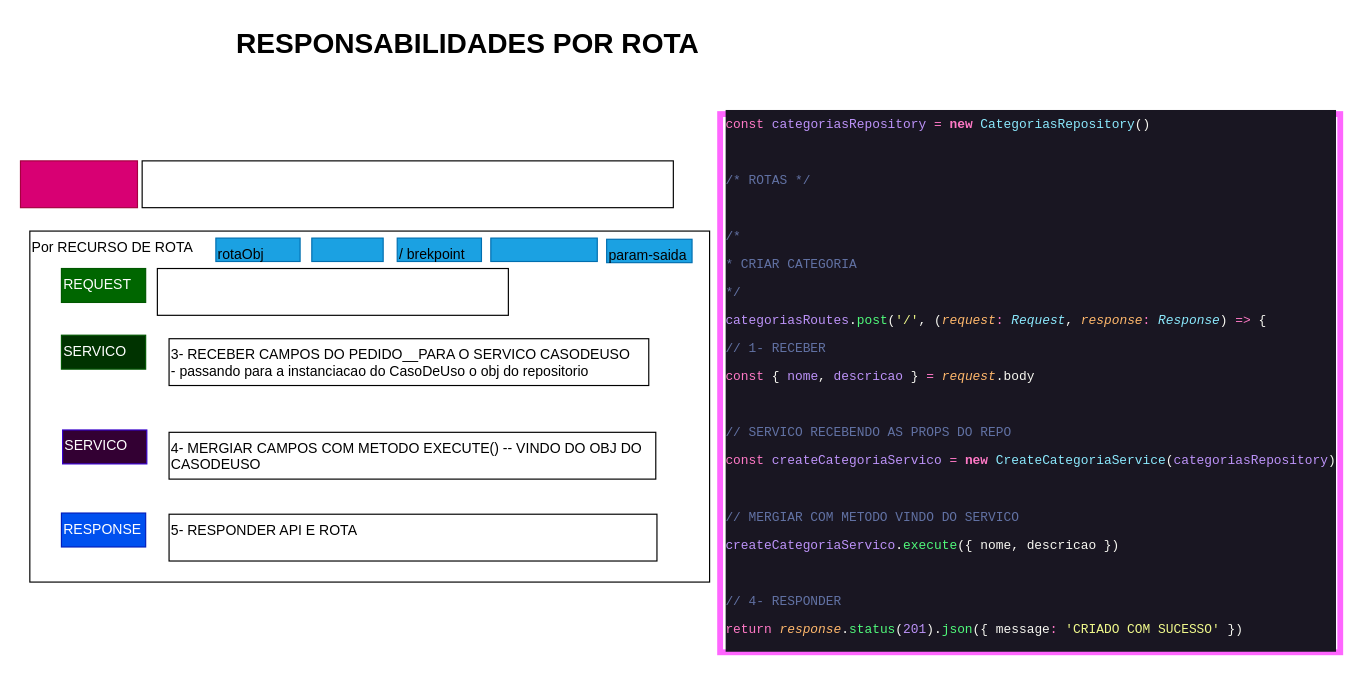
Some shapes in this 1363 by 684 pixel diagram are drawn without their labels. The centre of each missing label's shape, as x and y in pixels:
"1- GLOBAL//ARQUIVO OBJETO INSTANCIADO DE QUEM OBEDECE CONTRATO REPO" belongs at [407,184].
"2- RECEBER CAMPOS DO PEDIDO__PARA A ROTA" belongs at [332,291].
"GLOBAL ARQ" belongs at [78,184].
"metodo ( )" belongs at [347,249].
"param-entrada" belongs at [543,249].
